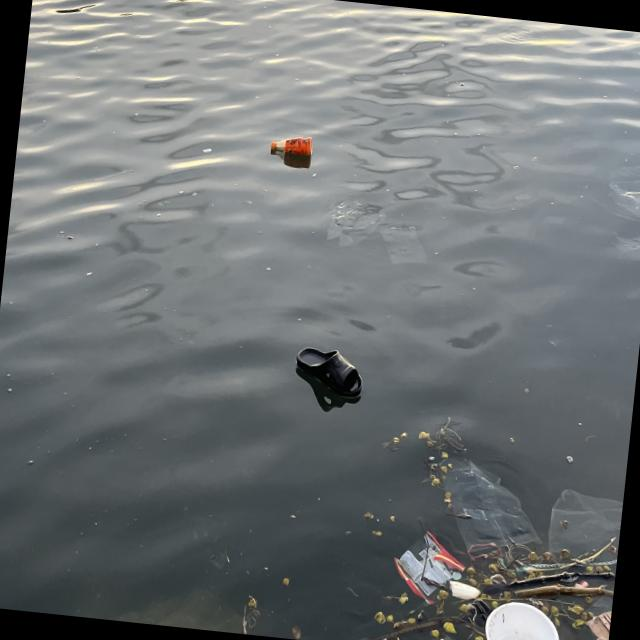foam: (481, 599, 563, 640)
plastic bag: (393, 532, 465, 599)
plastic bottle: (272, 133, 315, 157)
